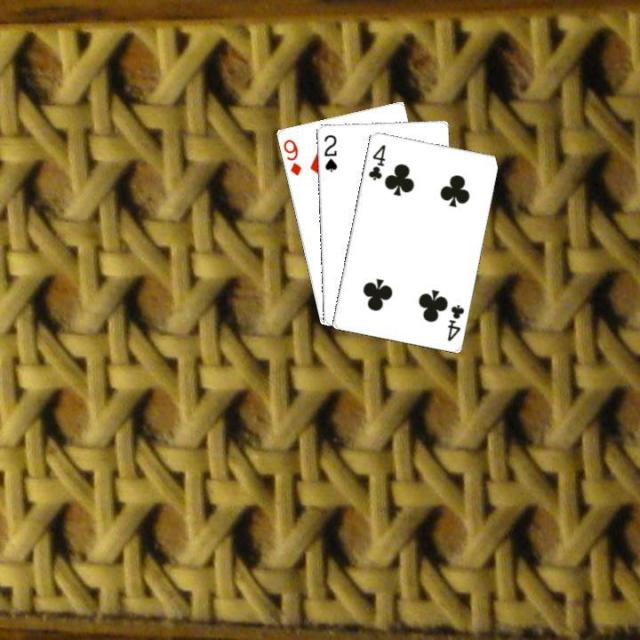2S: (320, 131, 339, 173)
4C: (442, 300, 466, 342), (364, 140, 386, 182)
9D: (279, 135, 303, 177)
